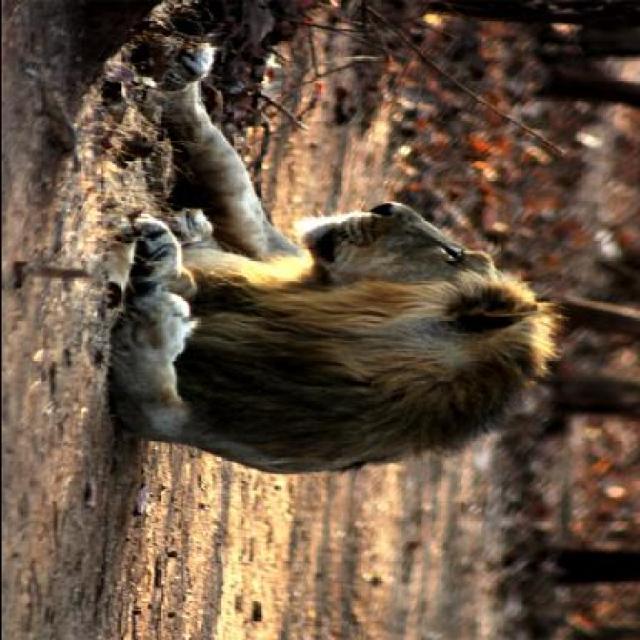Lion: (123, 38, 563, 491)
